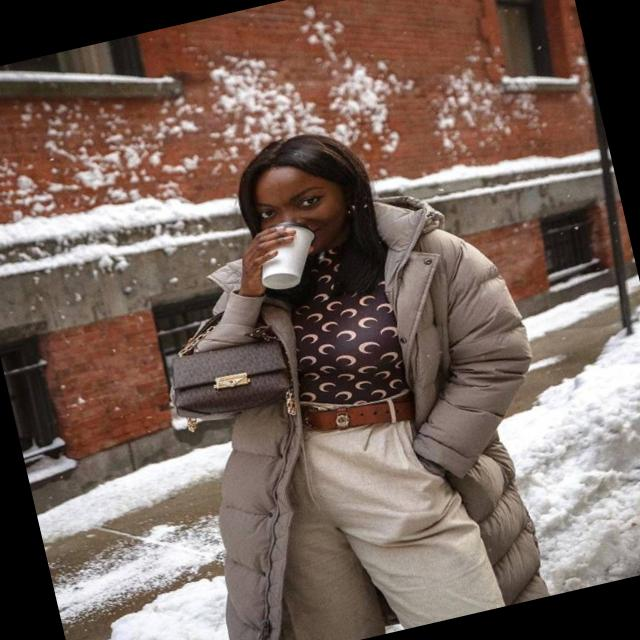Jacket: (119, 177, 595, 640)
